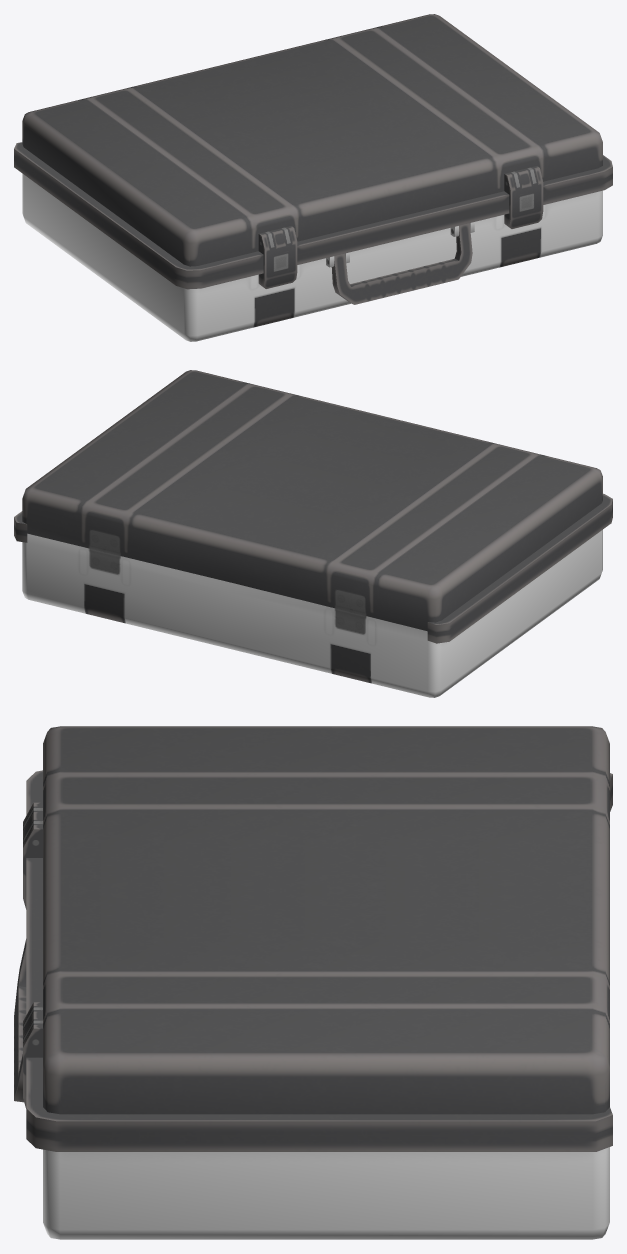
Rendered from WeaponStorageCase02_2.FBX.
3 renders of one model, top to bottom at view 1: azimuth 30°, elevation 25°; view 2: azimuth 150°, elevation 25°; view 3: azimuth 270°, elevation 25°, orthographic. The views are drawn at different scales.
Parts seen in each view (by area): view 1: Cover2, WeaponCase02_2; view 2: Cover2, WeaponCase02_2; view 3: Cover2, WeaponCase02_2.
Part boxes in pixels (x1,y1,x2,y2): Cover2: [14, 14, 612, 288]; WeaponCase02_2: [14, 158, 612, 341]; Cover2: [14, 370, 612, 634]; WeaponCase02_2: [14, 509, 612, 697]; Cover2: [23, 726, 612, 1136]; WeaponCase02_2: [14, 790, 612, 1239].
Size of what is drawn, in the model's own units: 0.7381 by 0.18 by 0.5284.
